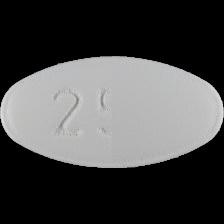53808-1024: (0, 0, 224, 224)
